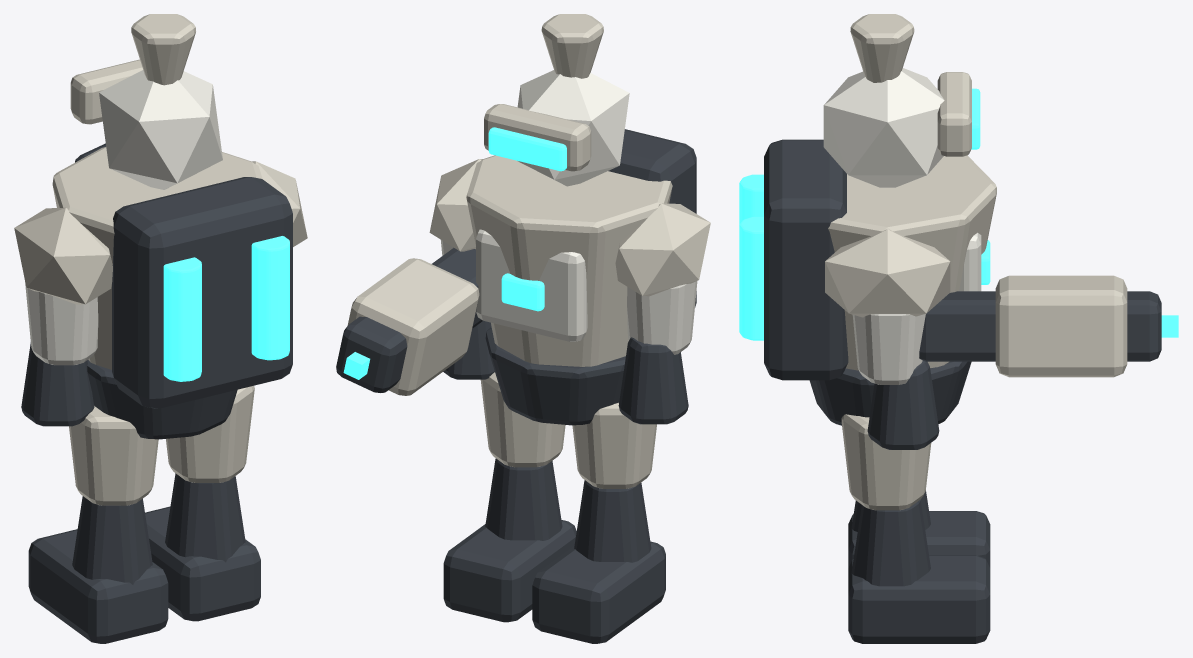
File: human_rifleman.glb
The picture shows the model from 3 angles, left to right: view 1: azimuth 30°, elevation 25°; view 2: azimuth 150°, elevation 25°; view 3: azimuth 270°, elevation 25°; orthographic projection. The views are drawn at different scales.
Visible parts, largest first — view 1: backpack, helmet, boot, torso, pauldron, boot.001, thigh_armor, greave, greave.001, waist, thigh_armor.001, power_cell (+6 smaller); view 2: torso, rifle_shroud, boot, boot.001, waist, chest_plate, helmet, pauldron, thigh_armor, greave.001, greave, forearm (+11 smaller); view 3: backpack, rifle_shroud, torso, helmet, boot.001, pauldron.001, rifle_body, thigh_armor.001, greave.001, forearm.001, upper_arm.001, waist (+6 smaller).
Boxes of the visible parts, x1,y1,x2,y2 form: backpack: (112,177,292,408); helmet: (99,70,222,189); boot: (28,529,168,643); torso: (52,147,262,369); pauldron: (14,207,112,304); boot.001: (145,506,260,621); thigh_armor: (69,406,158,505); greave: (72,496,152,584); greave.001: (165,473,245,562); waist: (87,360,237,439); thigh_armor.001: (166,385,254,482); power_cell: (163,257,201,381); torso: (466,155,672,366); rifle_shroud: (347,258,479,395); boot: (532,541,665,643); boot.001: (443,520,576,622); waist: (485,327,625,425); chest_plate: (476,229,587,341); helmet: (517,70,629,186); pauldron: (615,203,710,296); thigh_armor: (572,402,656,488); greave.001: (485,458,562,540); greave: (574,480,651,562); forearm: (618,337,688,424); backpack: (764,139,848,380); rifle_shroud: (995,275,1127,377); torso: (828,155,996,370); helmet: (823,68,944,187); boot.001: (848,555,990,643); pauldron.001: (825,229,950,317); rifle_body: (919,291,1161,361); thigh_armor.001: (841,414,931,510); greave.001: (851,500,930,586); forearm.001: (867,360,939,449); upper_arm.001: (852,314,925,384); waist: (809,361,971,425).
Size of the model in its own units: 1.16 by 2.45 by 1.67.
